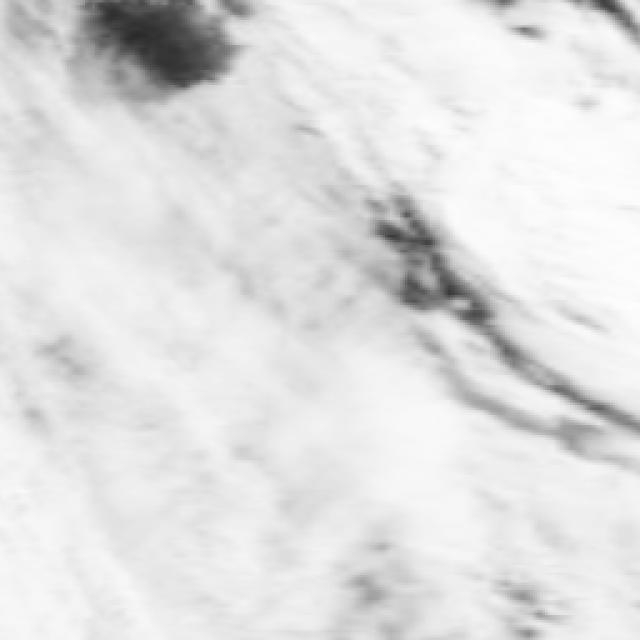CB: (0, 385, 210, 640), (172, 399, 388, 640), (402, 442, 640, 640), (0, 177, 215, 395), (168, 208, 378, 415), (241, 367, 444, 566), (286, 1, 488, 170), (487, 86, 640, 287)
